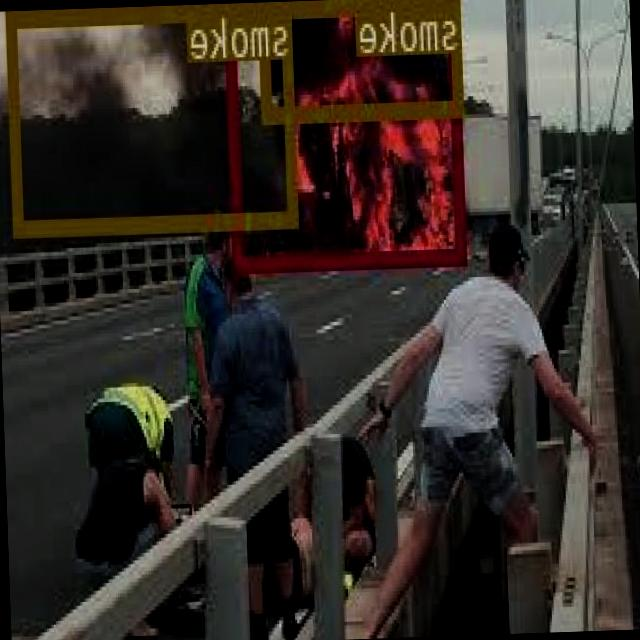fire: (227, 0, 468, 271)
smoke: (8, 1, 300, 234), (260, 0, 467, 121)
